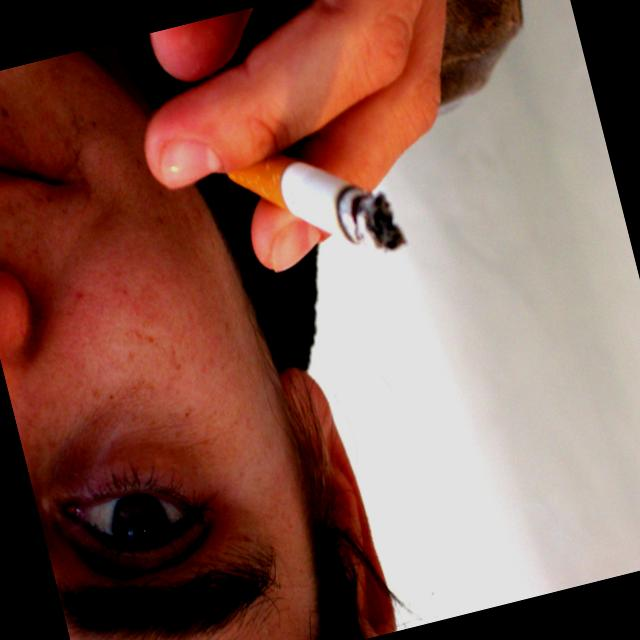cigarette: (168, 93, 422, 316)
